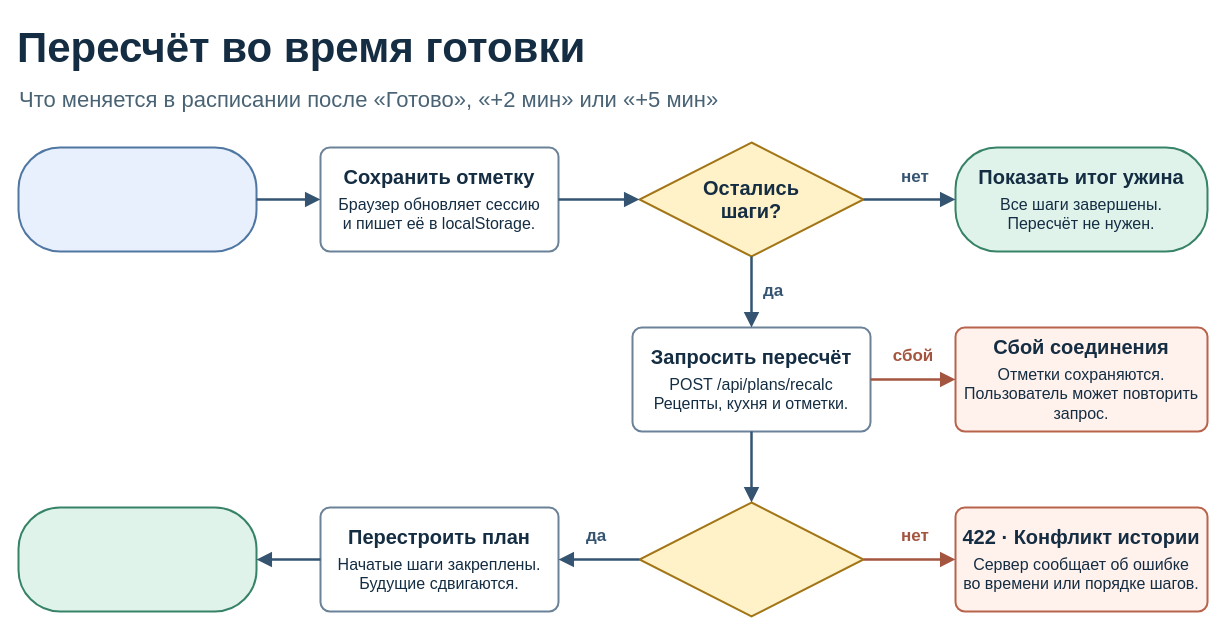
Some shapes in this 1226 by 634 pixel diagram are drawn without their labels. The shapes that lost their labels are listed below. From the top down, each one's centre as x and y in pixels, then its label:
At point (137, 199): "Отметить шаг Завершить шаг или продлить его таймер.".
At point (137, 559): "Обновить таймеры Применить свежий ответ. Устаревший пропустить.".
At point (751, 559): "История допустима?".
